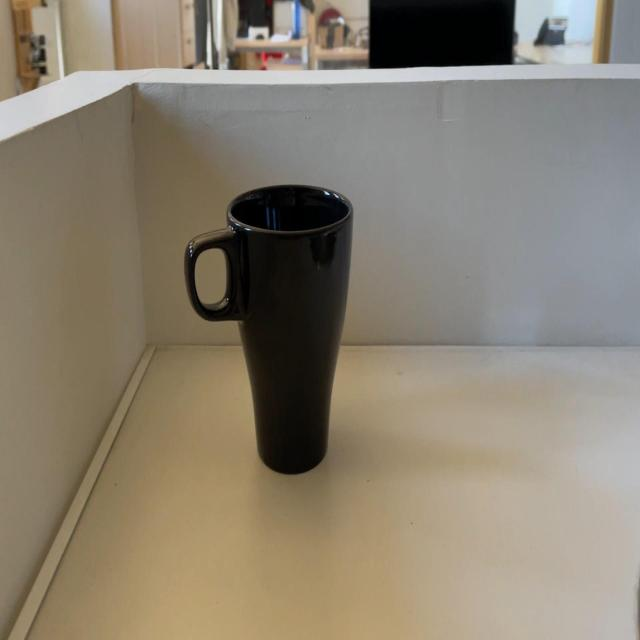cup: (184, 183, 354, 476)
